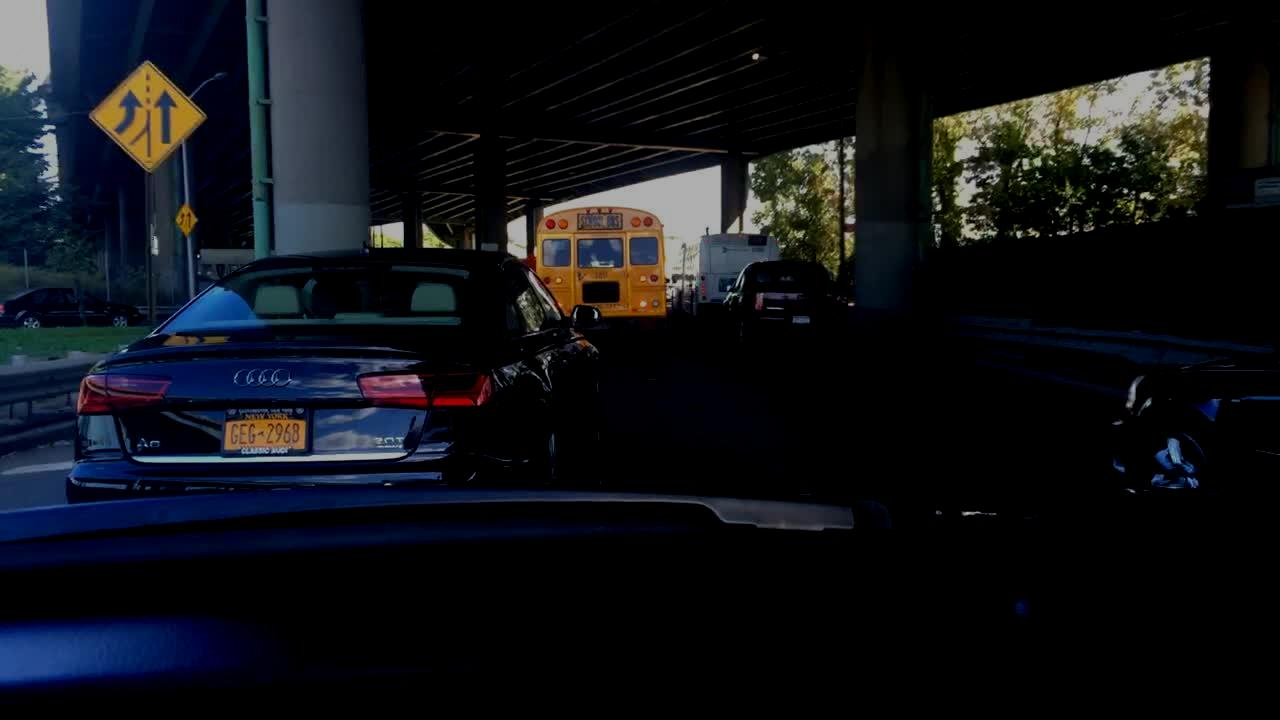Audi: (223, 358, 323, 410)
